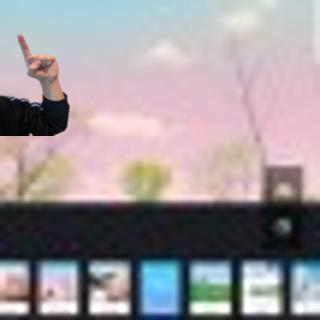IRRITATED: (13, 31, 61, 84)
